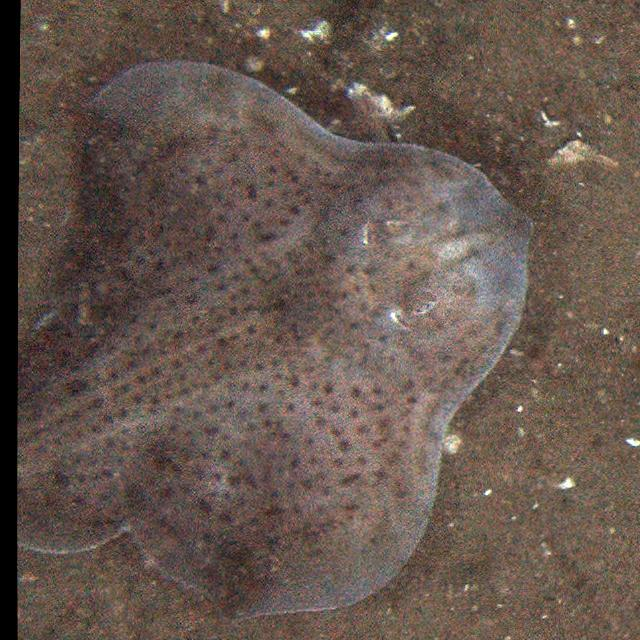skate: (22, 66, 530, 616)
